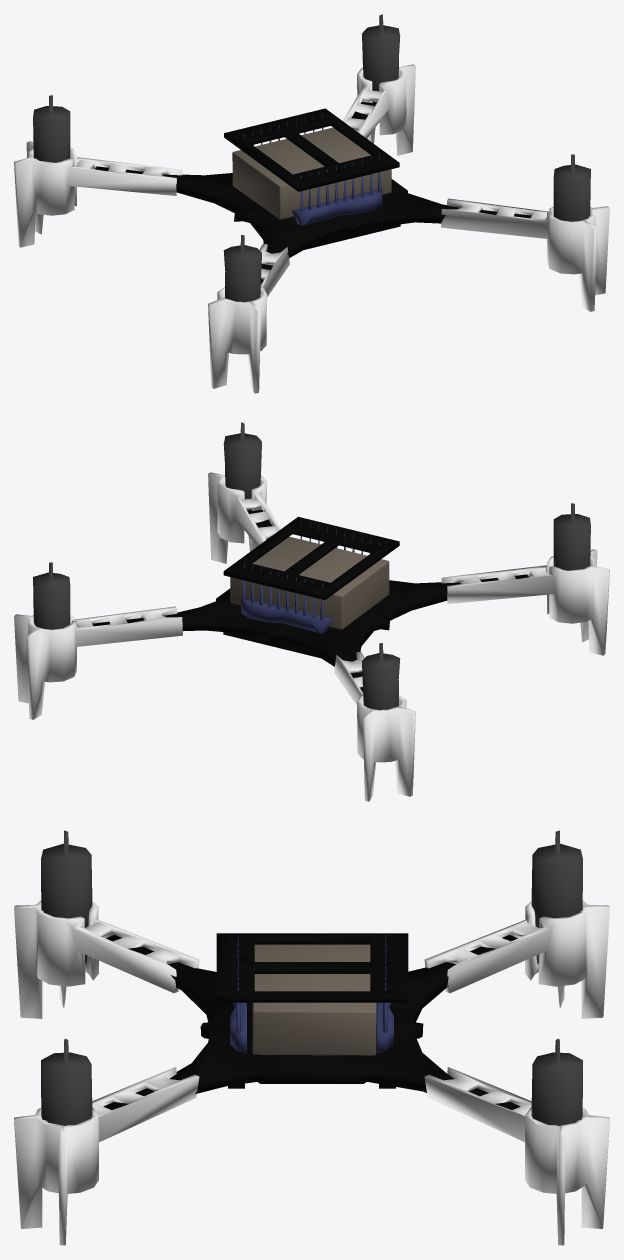
File: crazyflie_body.dae
The picture shows the model from 3 angles, top to bottom: view 1: azimuth 30°, elevation 25°; view 2: azimuth 150°, elevation 25°; view 3: azimuth 270°, elevation 25°; orthographic projection. The views are drawn at different scales.
Parts seen in each view (by area): view 1: 7mm motor mount Default sldprt, 7x15 motor Default sldprt, pcb Default sldprt, battery bc-bl-01-a Default sldprt, battery holder board Default sldprt, header Default sldprt; view 2: 7mm motor mount Default sldprt, 7x15 motor Default sldprt, pcb Default sldprt, battery bc-bl-01-a Default sldprt, battery holder board Default sldprt, header Default sldprt; view 3: 7mm motor mount Default sldprt, pcb Default sldprt, 7x15 motor Default sldprt, battery bc-bl-01-a Default sldprt, battery holder board Default sldprt, header Default sldprt.
Part boxes in pixels (x1,y1,x2,y2): 7mm motor mount Default sldprt: (14, 61, 609, 393); 7x15 motor Default sldprt: (33, 14, 590, 302); pcb Default sldprt: (95, 102, 531, 283); battery bc-bl-01-a Default sldprt: (232, 127, 391, 219); battery holder board Default sldprt: (224, 108, 399, 191); header Default sldprt: (244, 112, 382, 225); 7mm motor mount Default sldprt: (14, 469, 609, 801); 7x15 motor Default sldprt: (33, 422, 590, 710); pcb Default sldprt: (92, 510, 528, 691); battery bc-bl-01-a Default sldprt: (230, 536, 389, 629); battery holder board Default sldprt: (223, 516, 399, 599); header Default sldprt: (241, 520, 379, 633); 7mm motor mount Default sldprt: (14, 900, 609, 1245); pcb Default sldprt: (103, 935, 520, 1109); 7x15 motor Default sldprt: (41, 830, 582, 1125); battery bc-bl-01-a Default sldprt: (252, 944, 376, 1055); battery holder board Default sldprt: (216, 933, 408, 1002); header Default sldprt: (230, 934, 393, 1053).
Bounding box in the file's own units: 0.117 × 0.117 × 0.0406.
